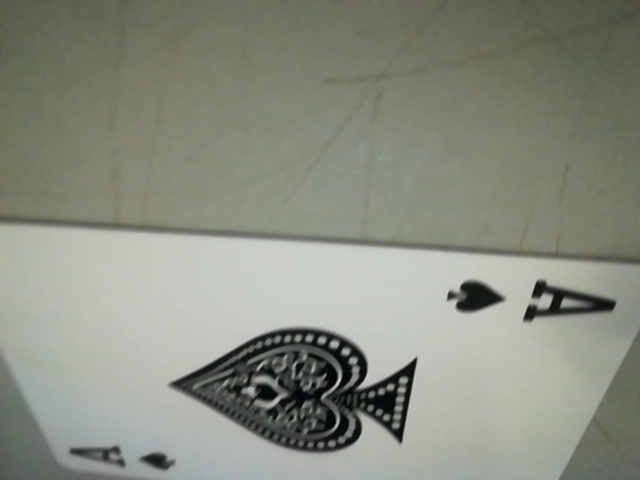ht a: (434, 265, 632, 329)
